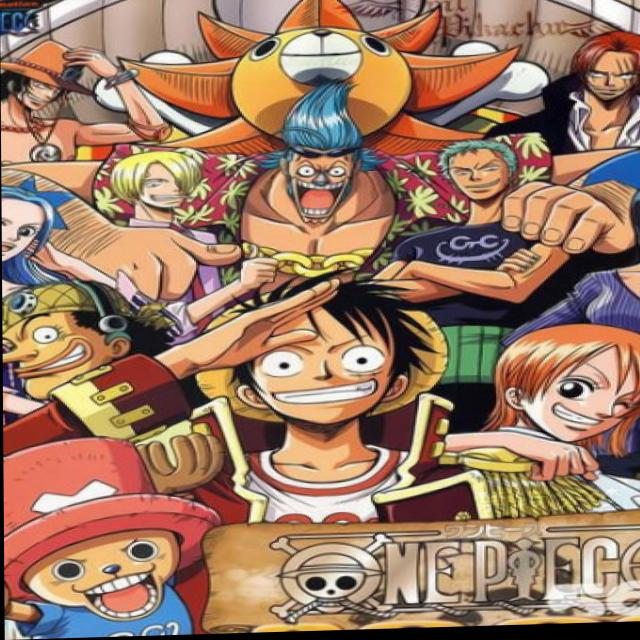Chyopa: (2, 422, 226, 640)
Franky: (263, 83, 386, 233)
Luffy: (184, 273, 449, 439)
Nami: (479, 321, 640, 467)
Sangdi: (101, 134, 217, 224)
Usopp: (2, 266, 145, 404)
Zoro: (429, 128, 531, 208)
